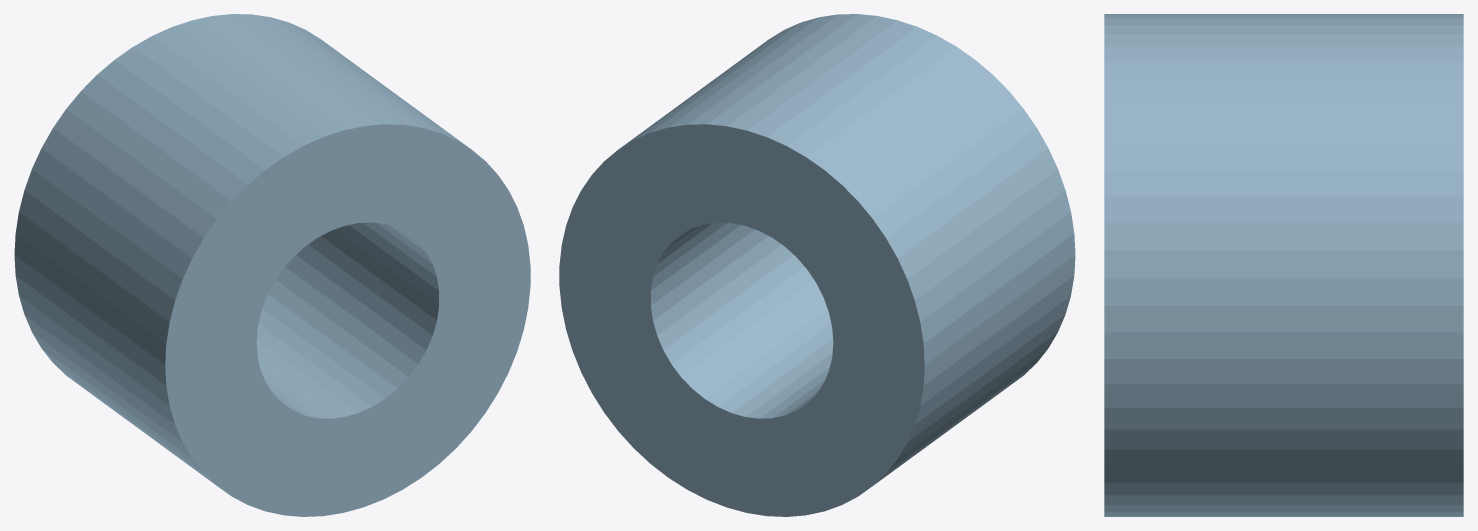
Rendered from case-05_lib00006.glb.
The picture shows the model from 3 angles, left to right: view 1: azimuth 30°, elevation 25°; view 2: azimuth 150°, elevation 25°; view 3: azimuth 270°, elevation 25°; orthographic projection. The views are drawn at different scales.
Visible parts, largest first — view 1: lib00006; view 2: lib00006; view 3: lib00006.
Part boxes in pixels (x1,y1,x2,y2): lib00006: (14,14,530,516); lib00006: (559,14,1075,516); lib00006: (1104,14,1463,516).
Size of the model in its own units: 77.97 by 78 by 55.74.
